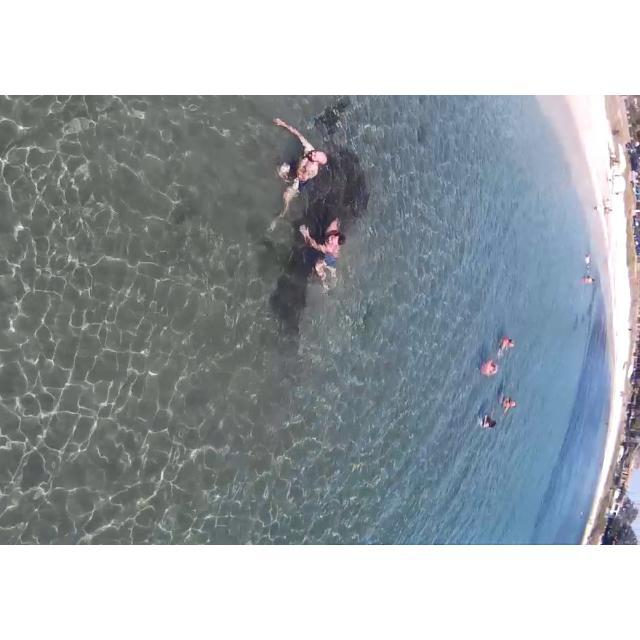human: (266, 104, 327, 241), (300, 205, 342, 299), (499, 382, 518, 421), (475, 404, 497, 430), (482, 351, 501, 380), (498, 327, 514, 361)
